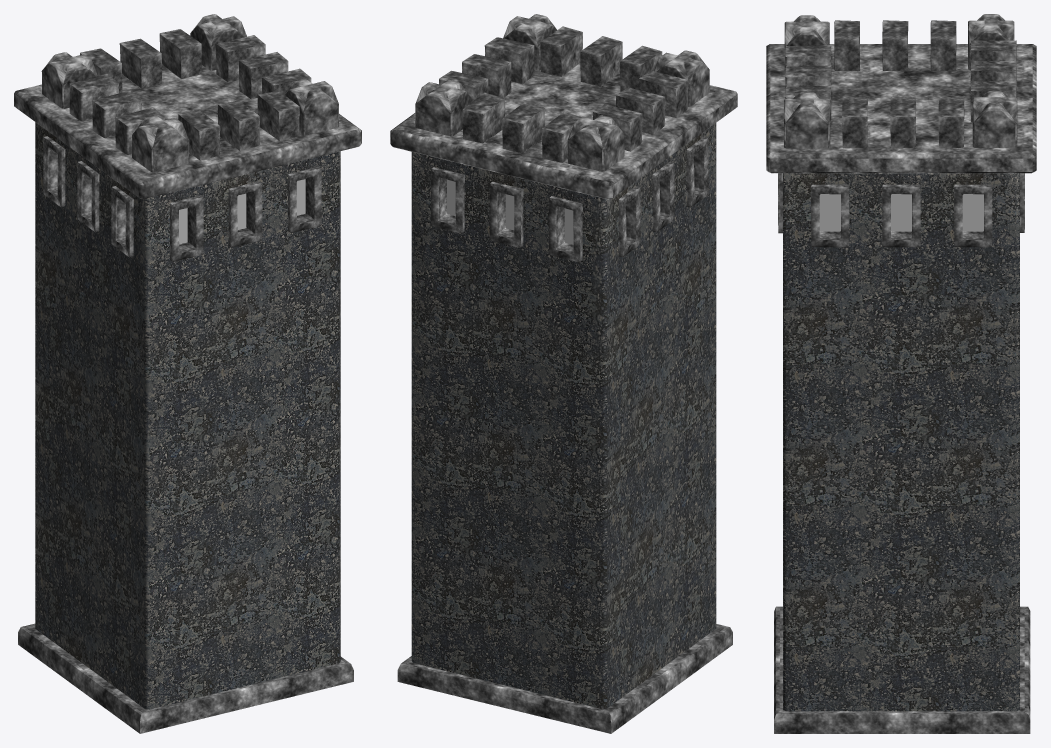
File: SM_wall_tower_03.fbx
3 renders of one model, left to right at view 1: azimuth 30°, elevation 25°; view 2: azimuth 150°, elevation 25°; view 3: azimuth 270°, elevation 25°, orthographic. The views are drawn at different scales.
Visible parts, largest first — view 1: SM_wall_tower_03_LOD0; view 2: SM_wall_tower_03_LOD0; view 3: SM_wall_tower_03_LOD0.
Boxes of the visible parts, x1,y1,x2,y2 form: SM_wall_tower_03_LOD0: (14,14,361,733); SM_wall_tower_03_LOD0: (390,14,737,733); SM_wall_tower_03_LOD0: (766,14,1036,733).
Size of the model in its own units: 510 by 510 by 1288.
